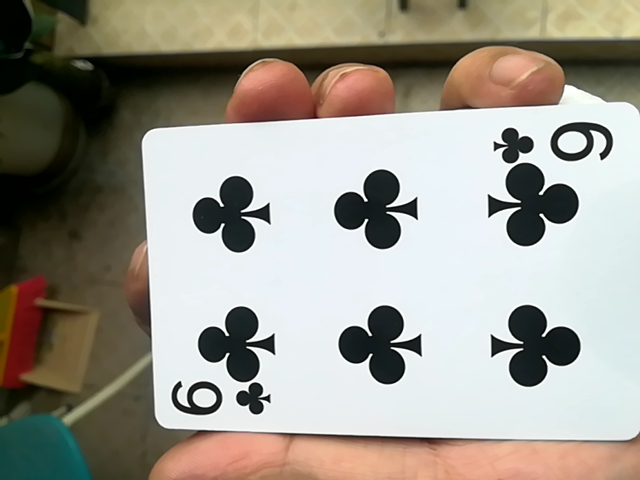mh 6: (135, 102, 633, 453)
